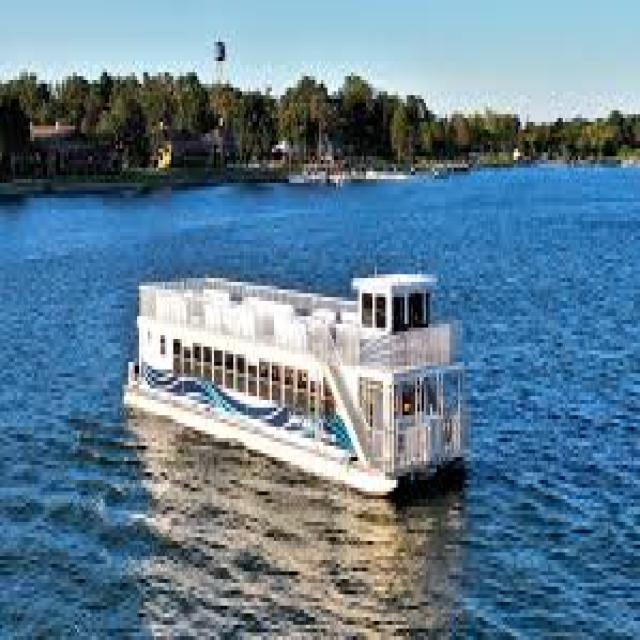passenger ship: (102, 240, 483, 493)
